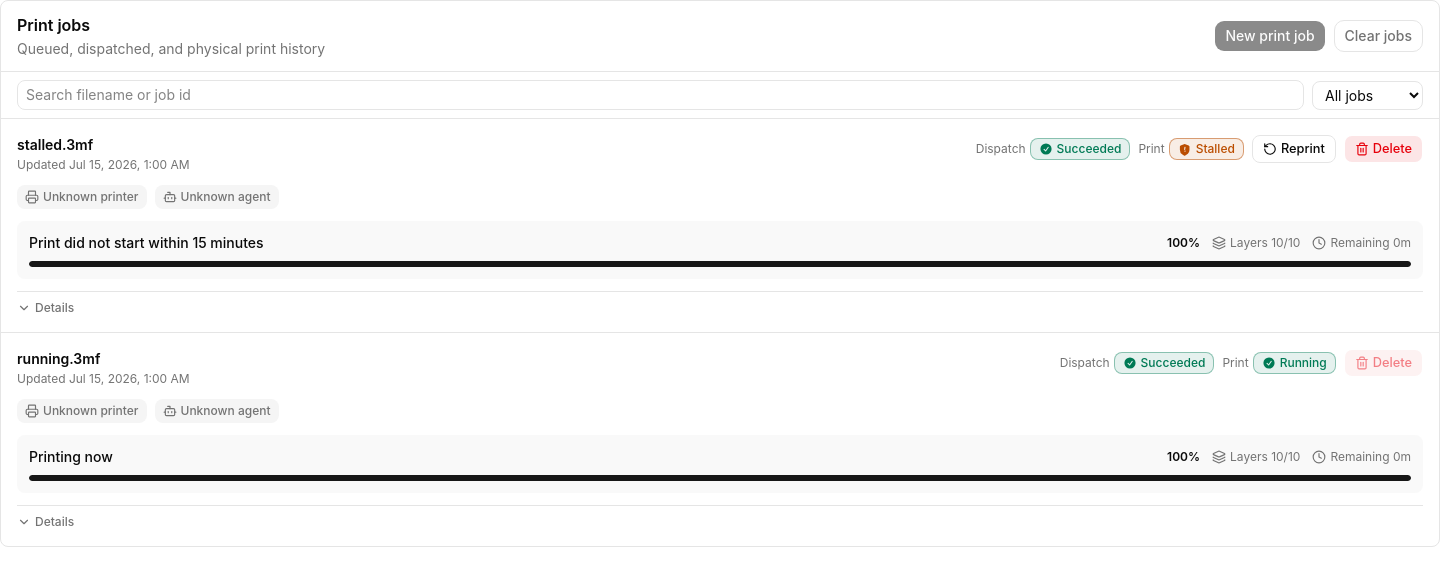
JobHistory actions › excludes persisted stalled jobs from the active filter
Select "Active" in the dropdown named "Filter by status": (1368, 95) [1312,80,1423,110]
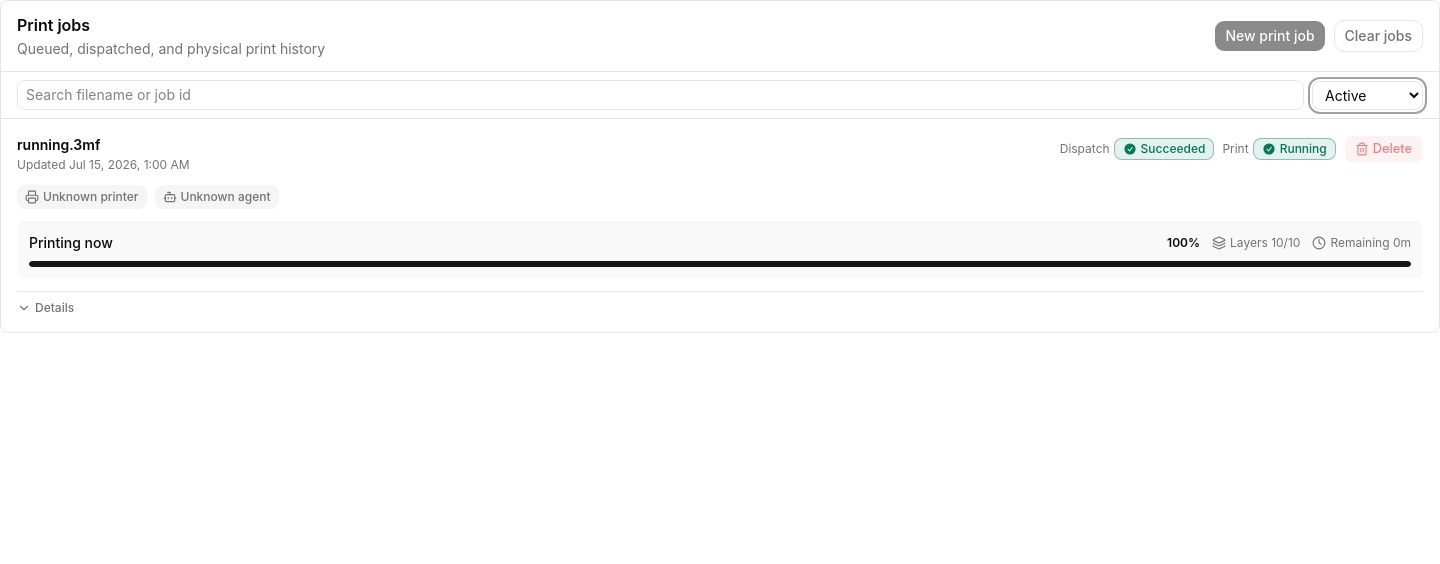
Check: the heading "running.3mf" is shown, box [17,136,100,153]
Check: the heading "stalled.3mf" is gone
